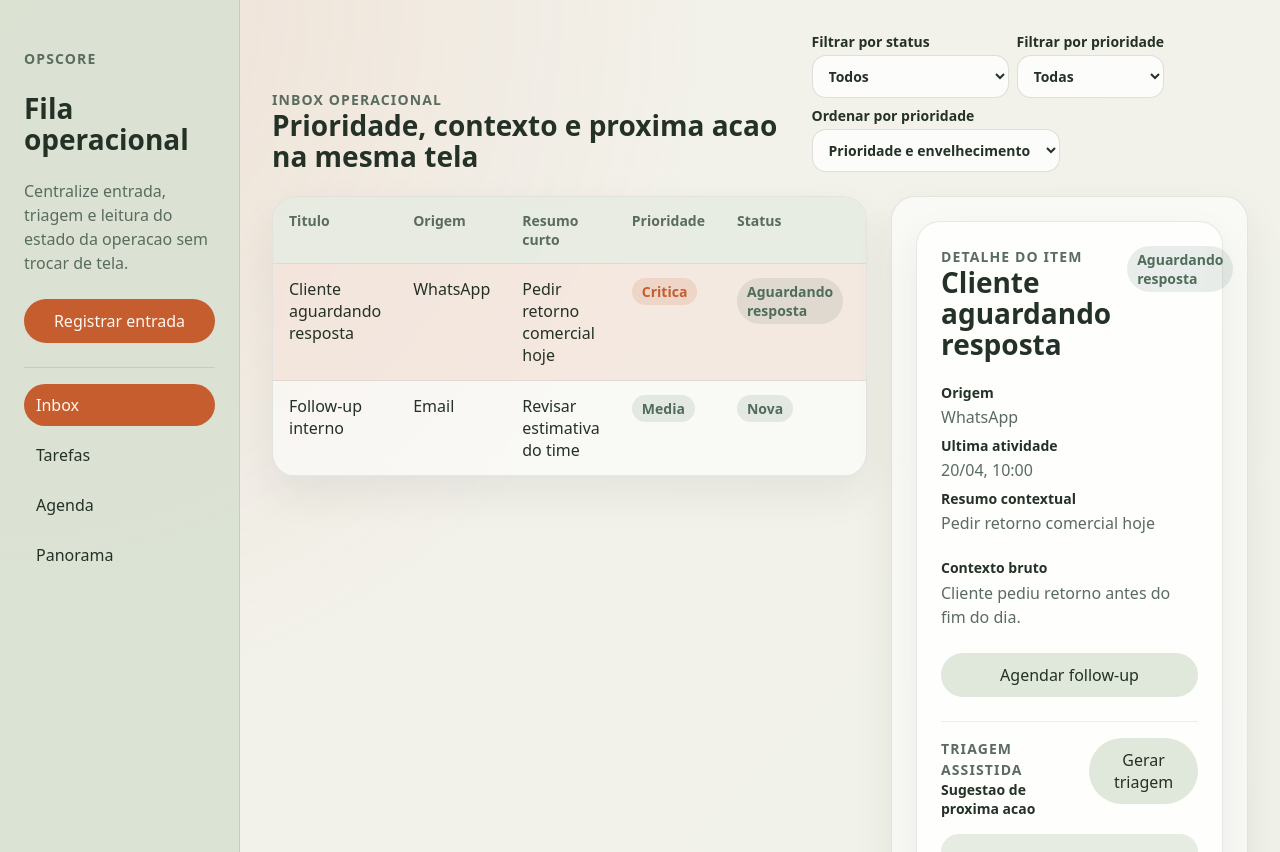
workspace shell › opens the new entry dialog and posts the new item
This screenshot has width=1280, height=852.
Click the button "Registrar entrada". click: click(120, 321)
box: [24,299,215,343]
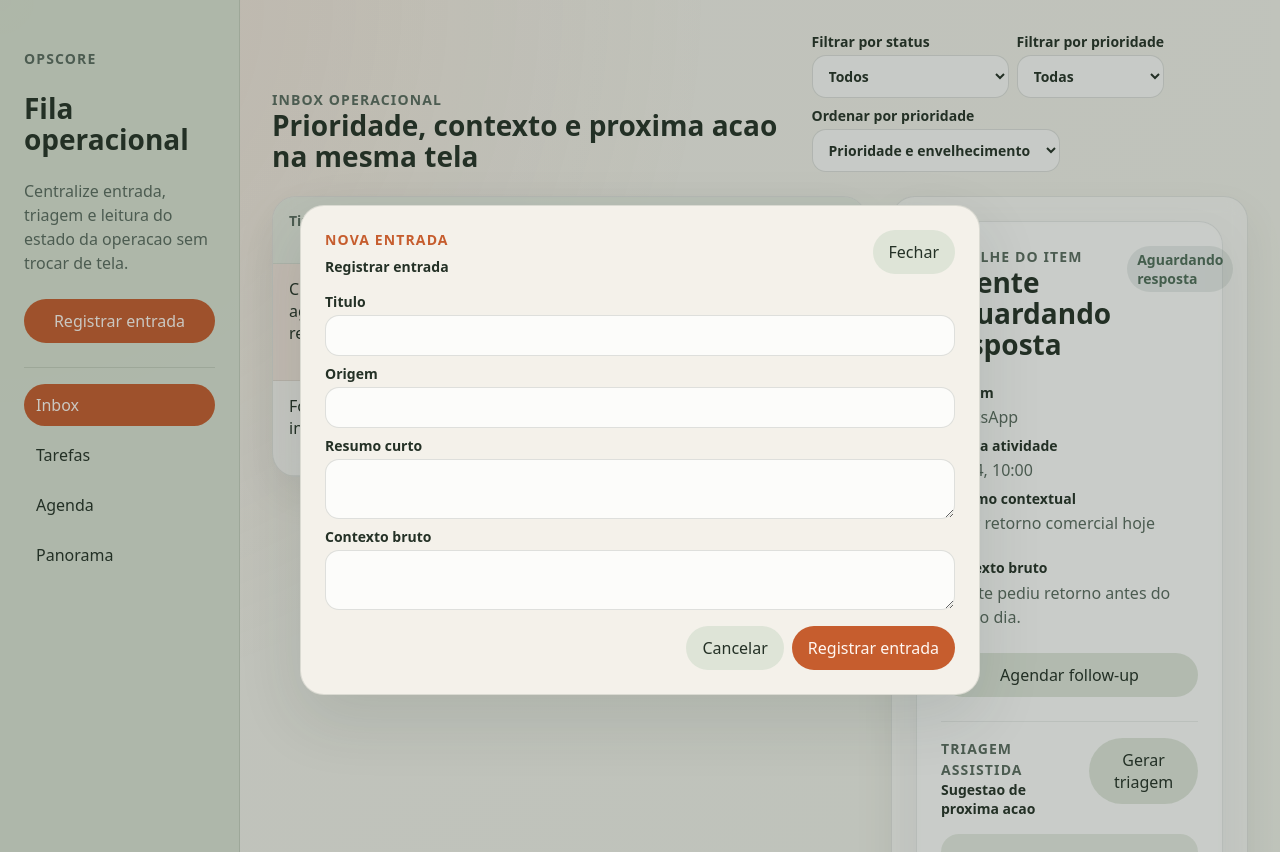
Type "Nova captura" into the field labelled "Titulo". click: (640, 336)
box: [325,315,955,356]
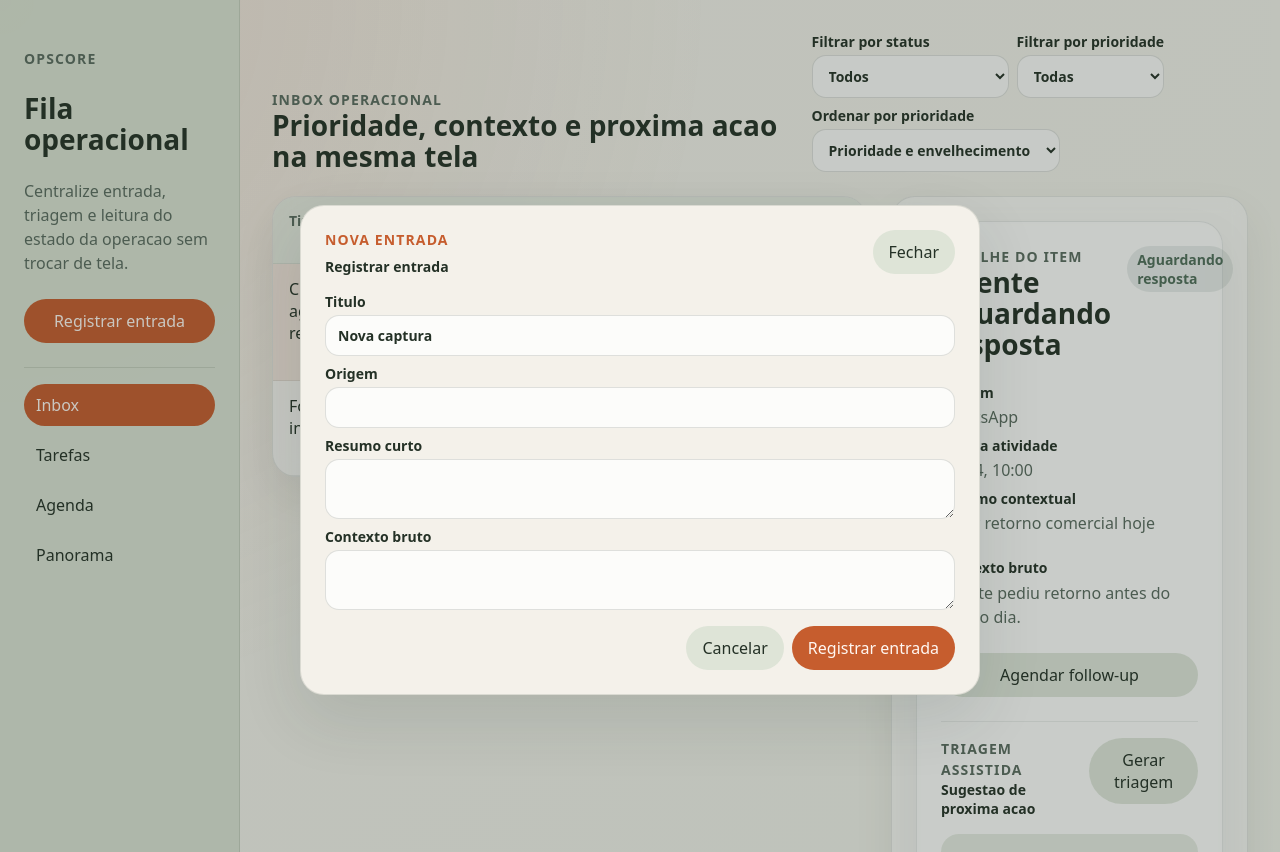
Type "Ligacao" into the field labelled "Origem". click: (640, 408)
box: [325,387,955,428]
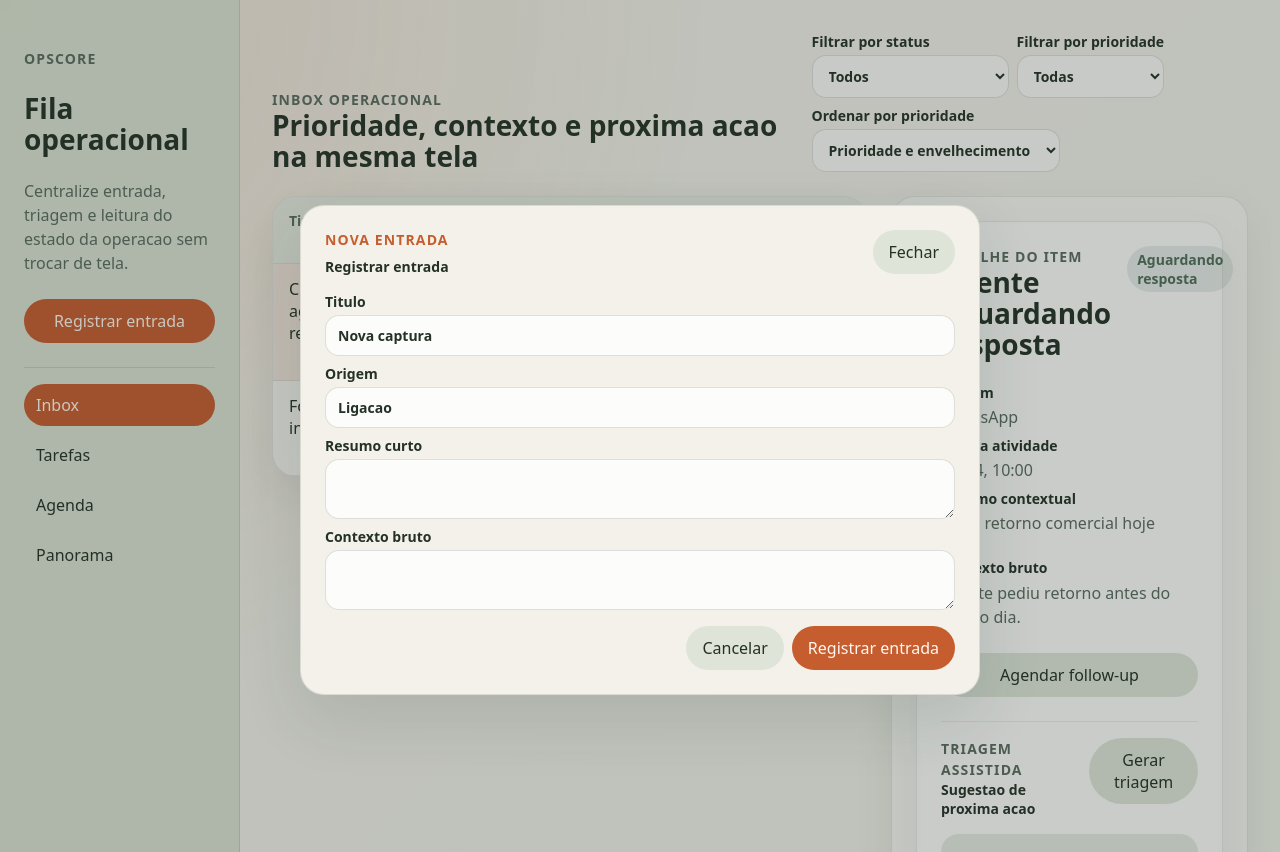
Type "Confirmar proposta" into the text box labelled "Resumo curto". click: (640, 489)
box: [325,459,955,519]
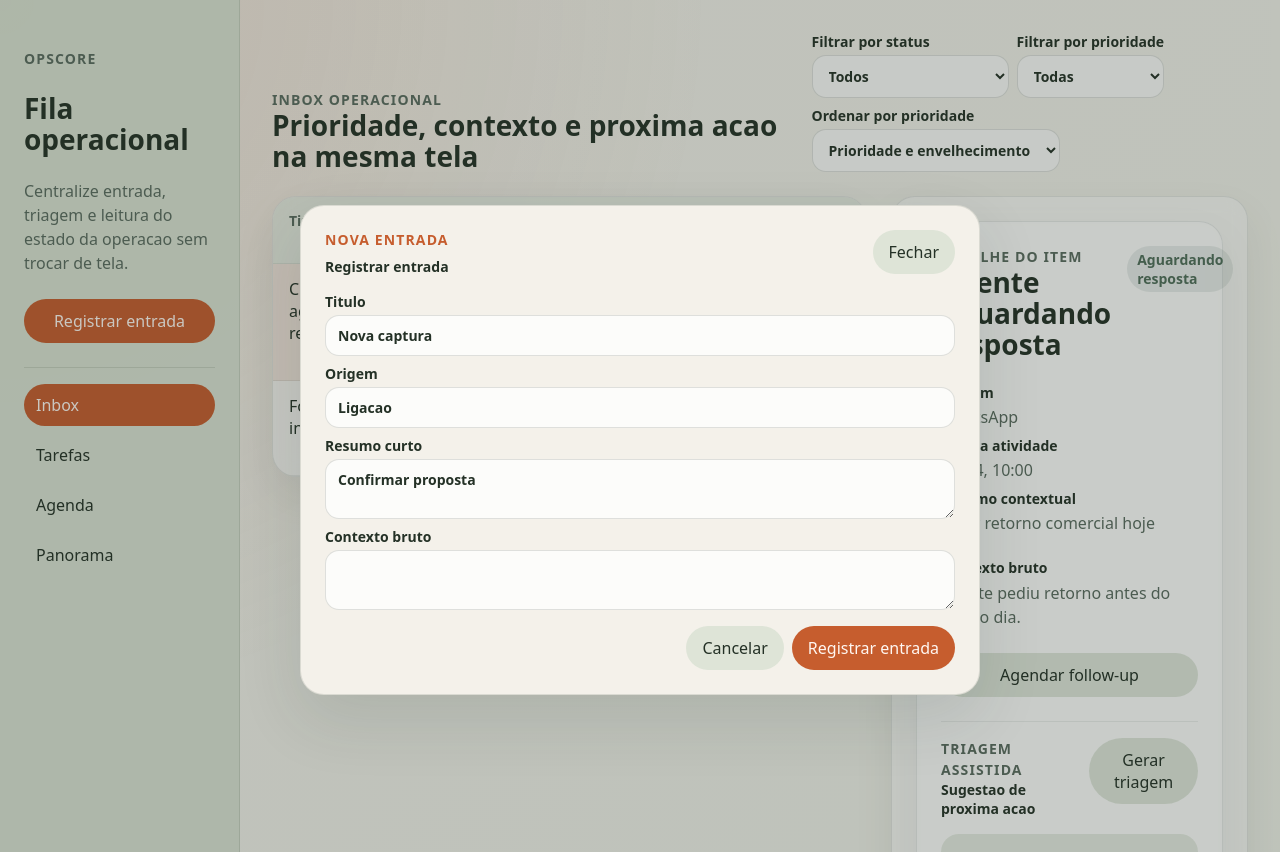
Click the button "Registrar entrada". click: click(873, 648)
box: [792,626,955,670]
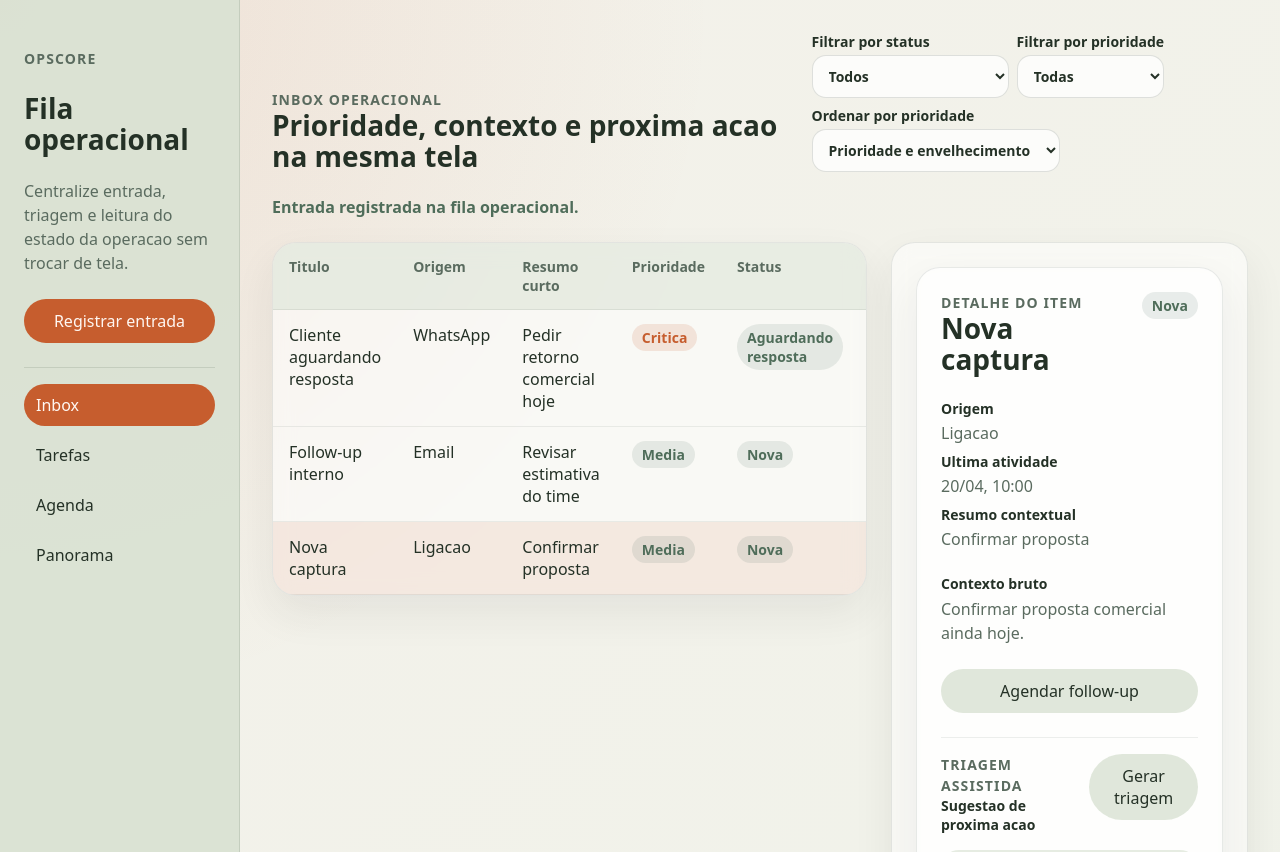
Expected: the text "Entrada registrada na fila operacional." is shown, [272,196,579,218]
